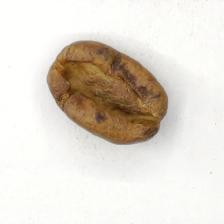NG: (57, 49, 152, 129)
